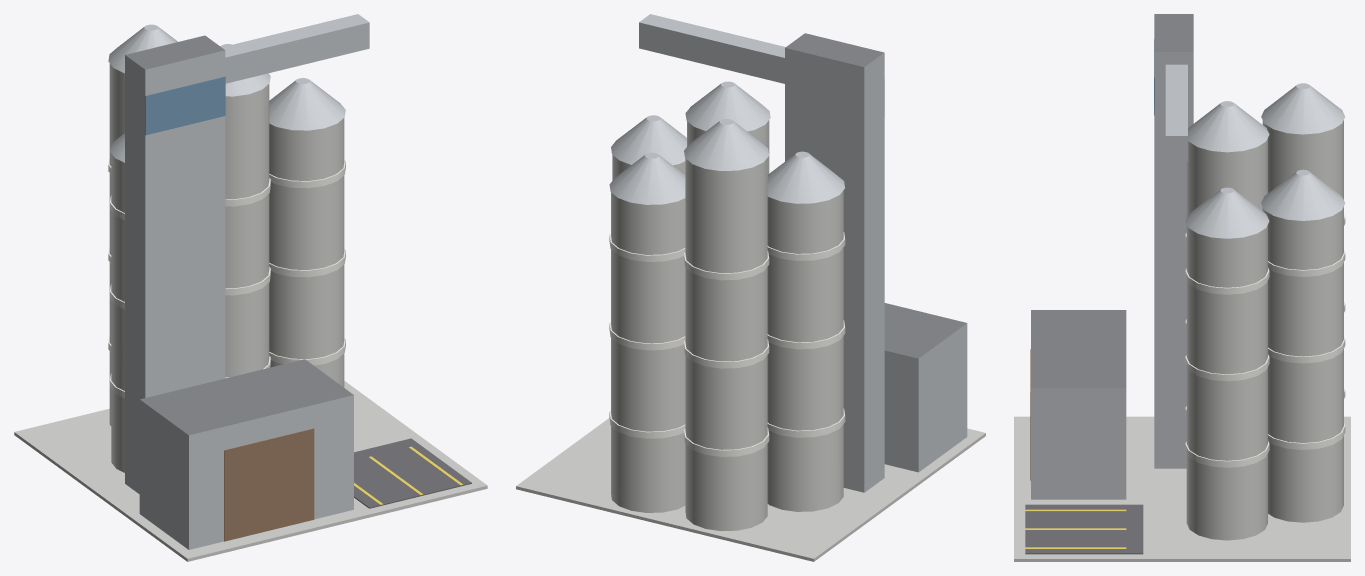
The picture shows the model from 3 angles, left to right: view 1: azimuth 30°, elevation 25°; view 2: azimuth 150°, elevation 25°; view 3: azimuth 270°, elevation 25°; orthographic projection. The views are drawn at different scales.
Parts seen in each view (by area): view 1: i_2_1_d; view 2: i_2_1_d; view 3: i_2_1_d.
Boxes of the visible parts, x1=… form: i_2_1_d: x1=14, y1=14, x2=487, y2=561; i_2_1_d: x1=516, y1=14, x2=985, y2=561; i_2_1_d: x1=1014, y1=14, x2=1350, y2=561.
Size of the model in its own units: 12 by 16.5 by 12.
